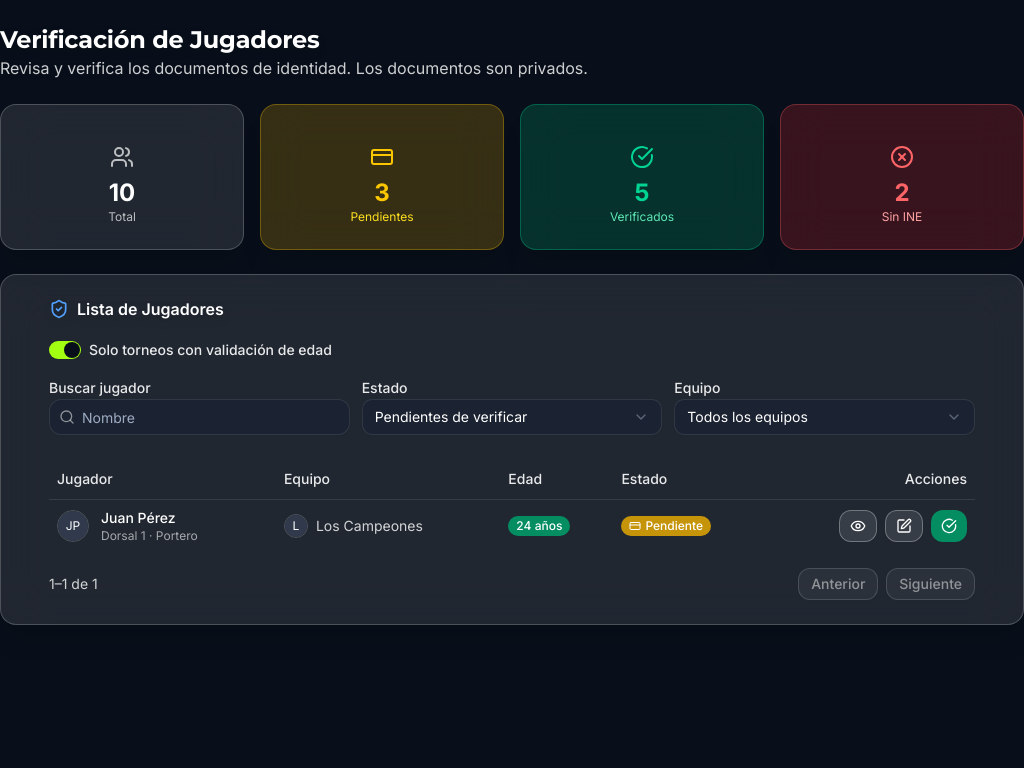
Test case: VerificationPage › marks a pending player as verified after confirmation, sending the document key
Click the button named "Marcar verificado a Juan Pérez".
click(949, 526)  # box 931,510 -> 967,542
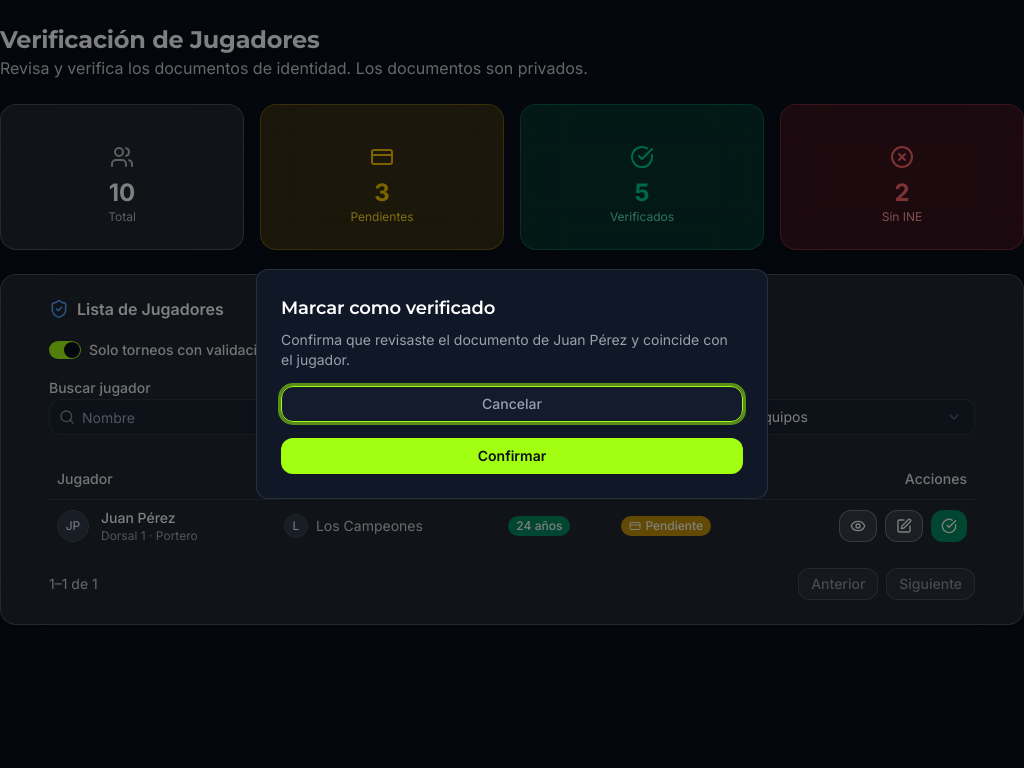
Click the button "Confirmar".
click(512, 456)  # box 281,438 -> 743,474
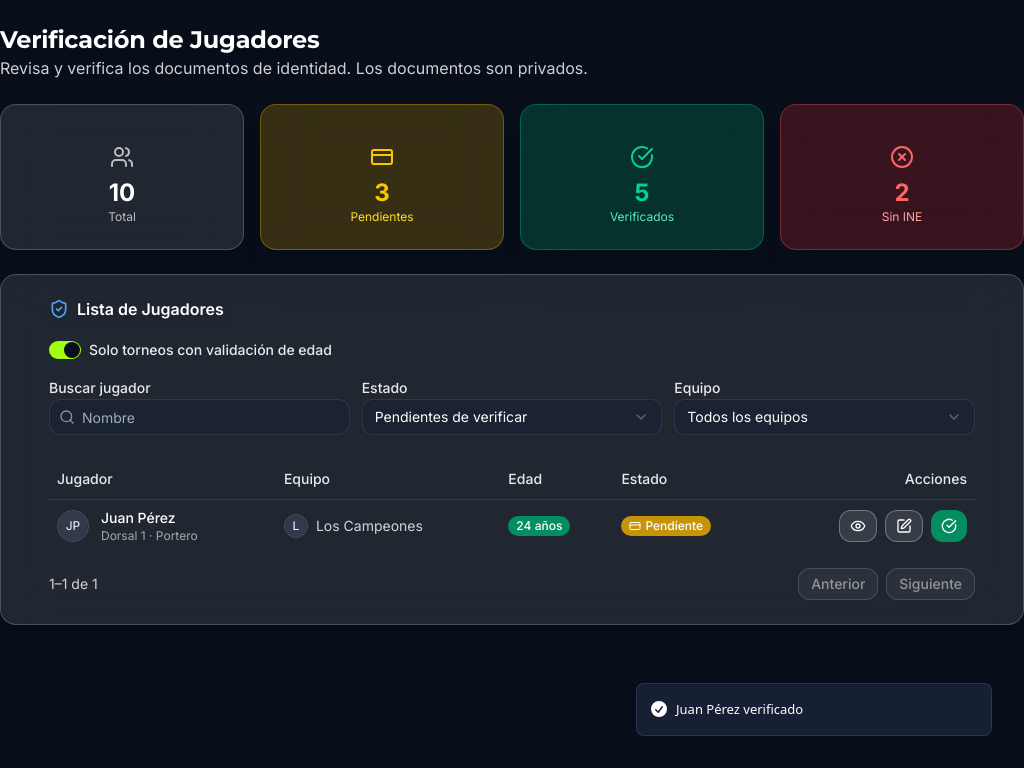
Now the text "Juan Pérez verificado" is shown, box 676,700 -> 803,719
